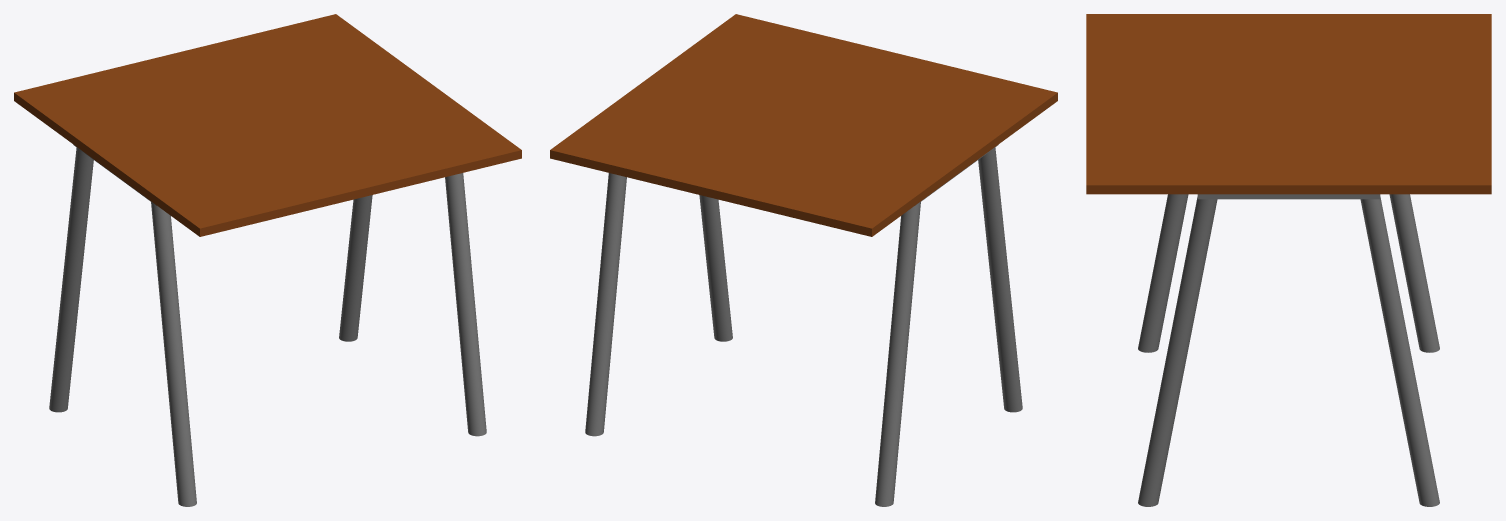
File: galant_desk_4_obj0_object.obj
3 renders of one model, left to right at view 1: azimuth 30°, elevation 25°; view 2: azimuth 150°, elevation 25°; view 3: azimuth 270°, elevation 25°, orthographic. The views are drawn at different scales.
Parts seen in each view (by area): view 1: Mesh1 Galant_80_x_80_1 Model; view 2: Mesh1 Galant_80_x_80_1 Model; view 3: Mesh1 Galant_80_x_80_1 Model.
Part boxes in pixels (<box>): Mesh1 Galant_80_x_80_1 Model: <box>14,14,521,506</box>; Mesh1 Galant_80_x_80_1 Model: <box>550,14,1057,506</box>; Mesh1 Galant_80_x_80_1 Model: <box>1086,14,1491,506</box>.
Bounding box in the file's own units: 31.5 × 27.95 × 31.5.
